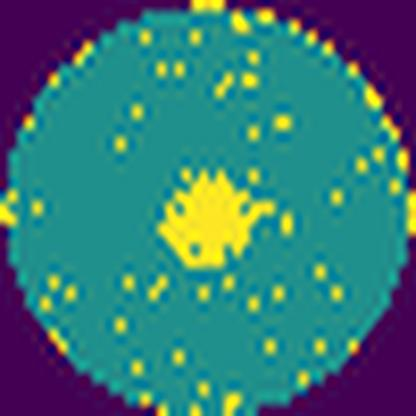Center: (158, 168, 278, 271)
